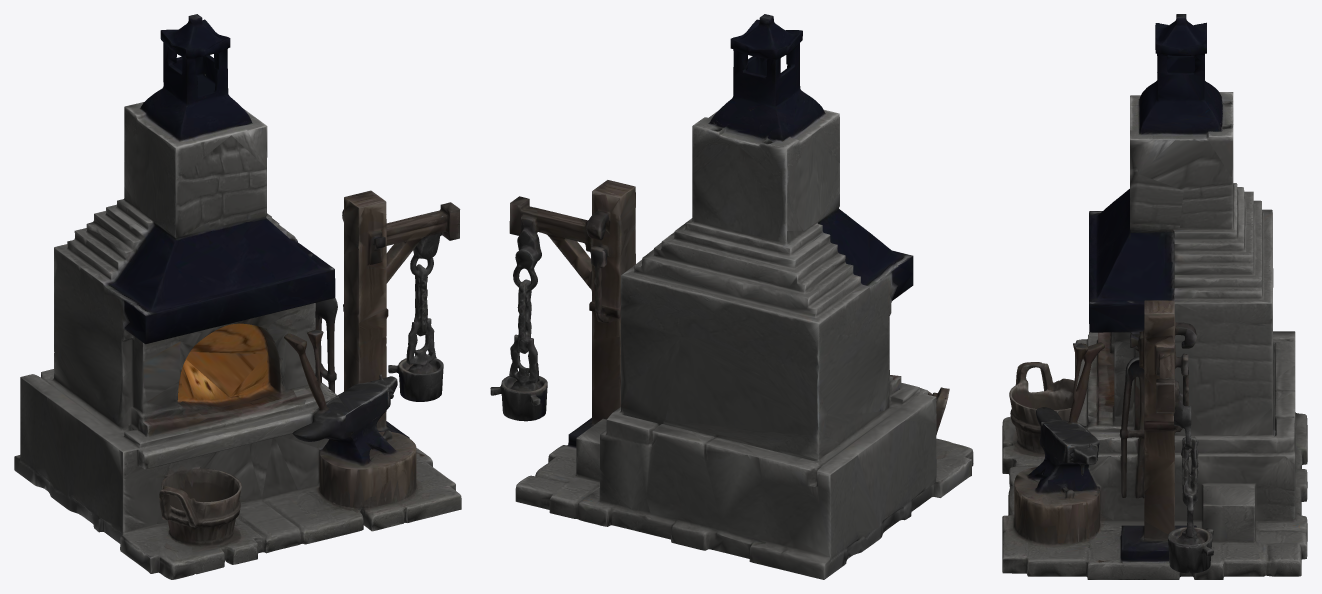
Rendered from village-forge.glb.
3 renders of one model, left to right at view 1: azimuth 30°, elevation 25°; view 2: azimuth 150°, elevation 25°; view 3: azimuth 270°, elevation 25°, orthographic. The views are drawn at different scales.
Parts seen in each view (by area): view 1: Mesh_0; view 2: Mesh_0; view 3: Mesh_0.
Part boxes in pixels (left/top/right/bottom): Mesh_0: left=14, top=14, right=461, bottom=579; Mesh_0: left=490, top=14, right=973, bottom=579; Mesh_0: left=1002, top=14, right=1307, bottom=579.
Size of the model in its own units: 1.58 by 1.9 by 1.11.
1 material, 1 textured.
